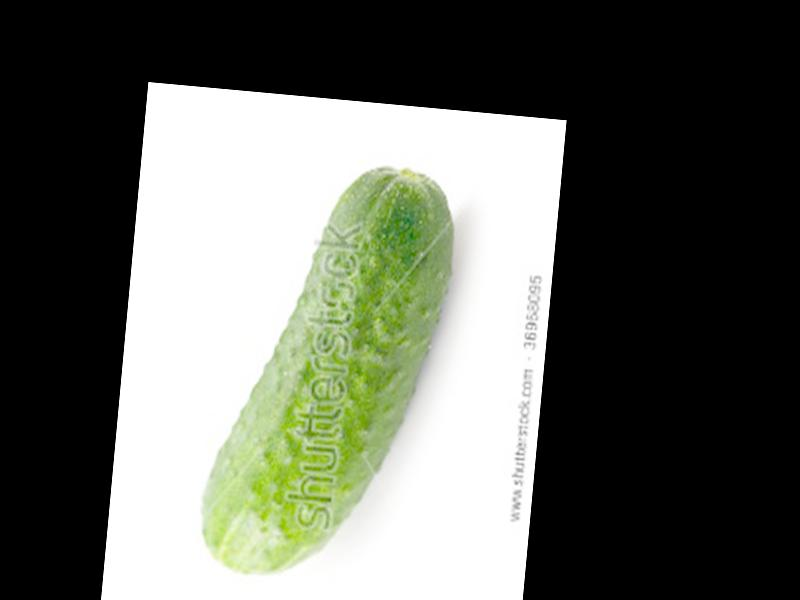Cucumber: (195, 153, 461, 589)
